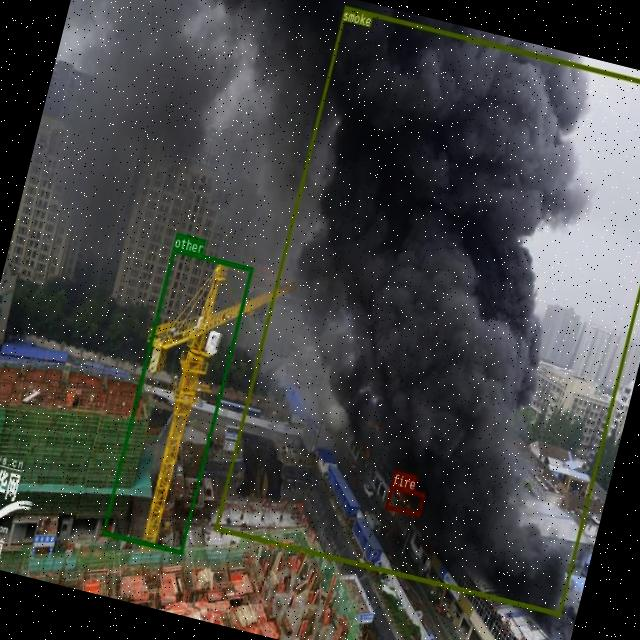fire: (384, 483, 424, 516)
smoke: (213, 4, 640, 614)
